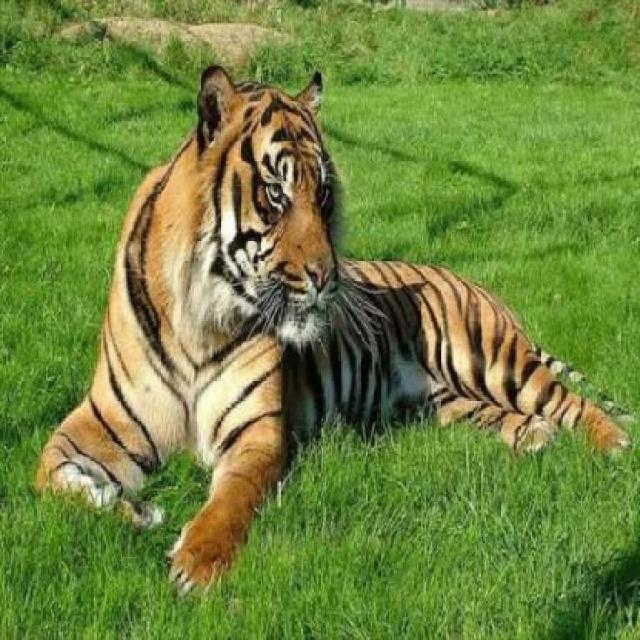tiger: (33, 63, 635, 597)
